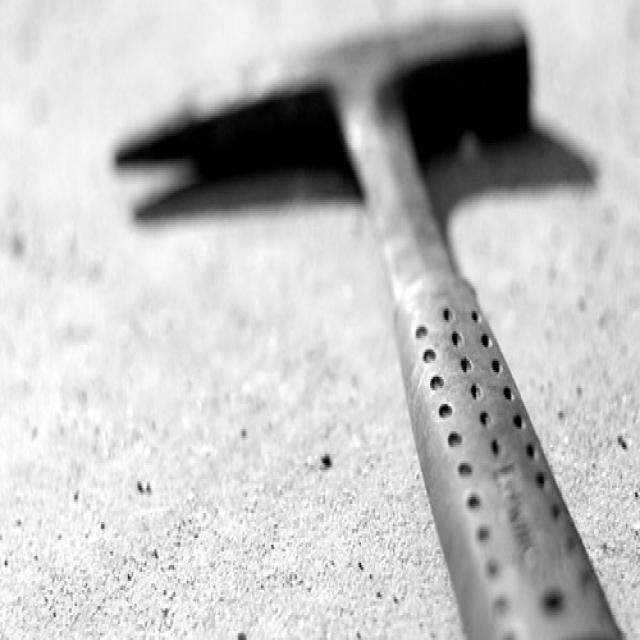hammer: (112, 8, 633, 640)
